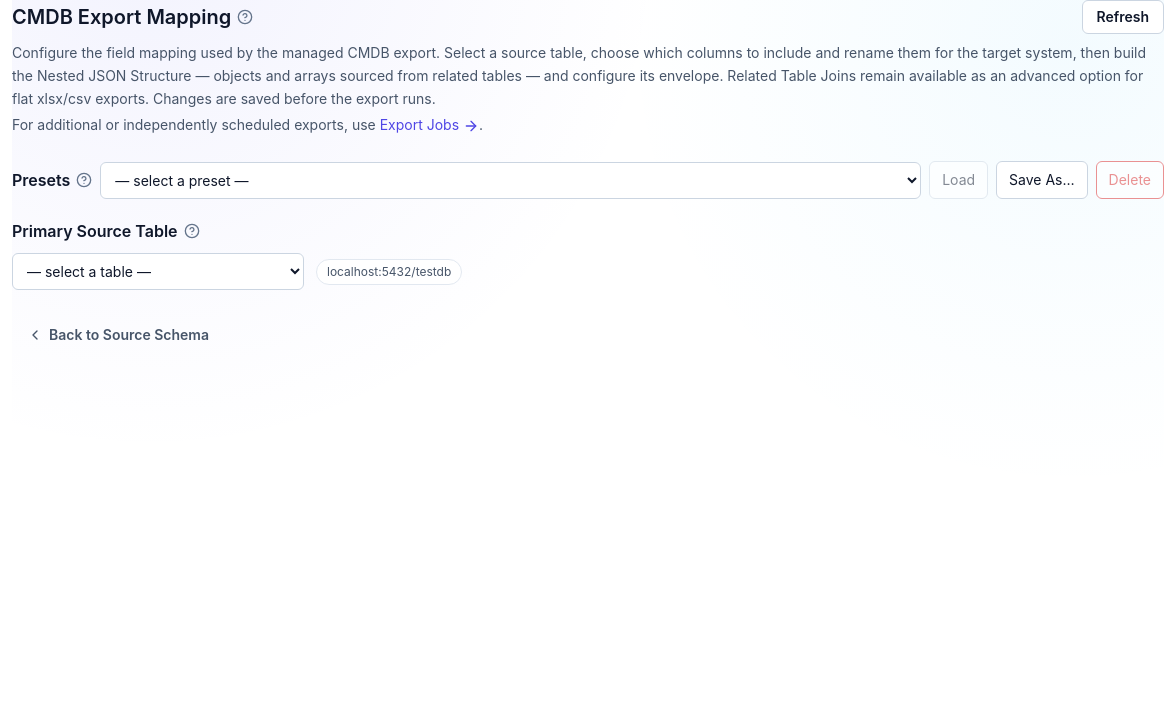
Test case: SchemaView › shows save-ok confirmation after successful save
Select "systemconfiguration (4 cols — PK: id)" in the dropdown with class "table-select" at (158, 272), box 12,253 -> 304,290
(page scrolled)
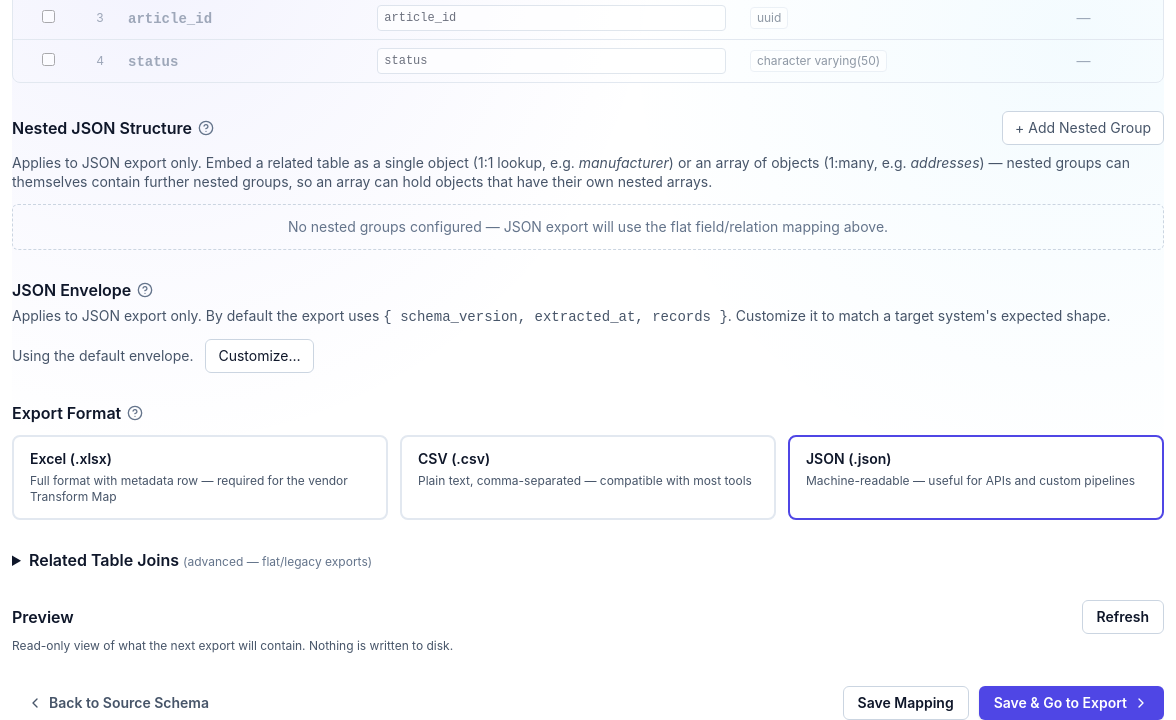
Click the button with class "btn-save" at (906, 703), box 843,686 -> 969,719
(page scrolled)
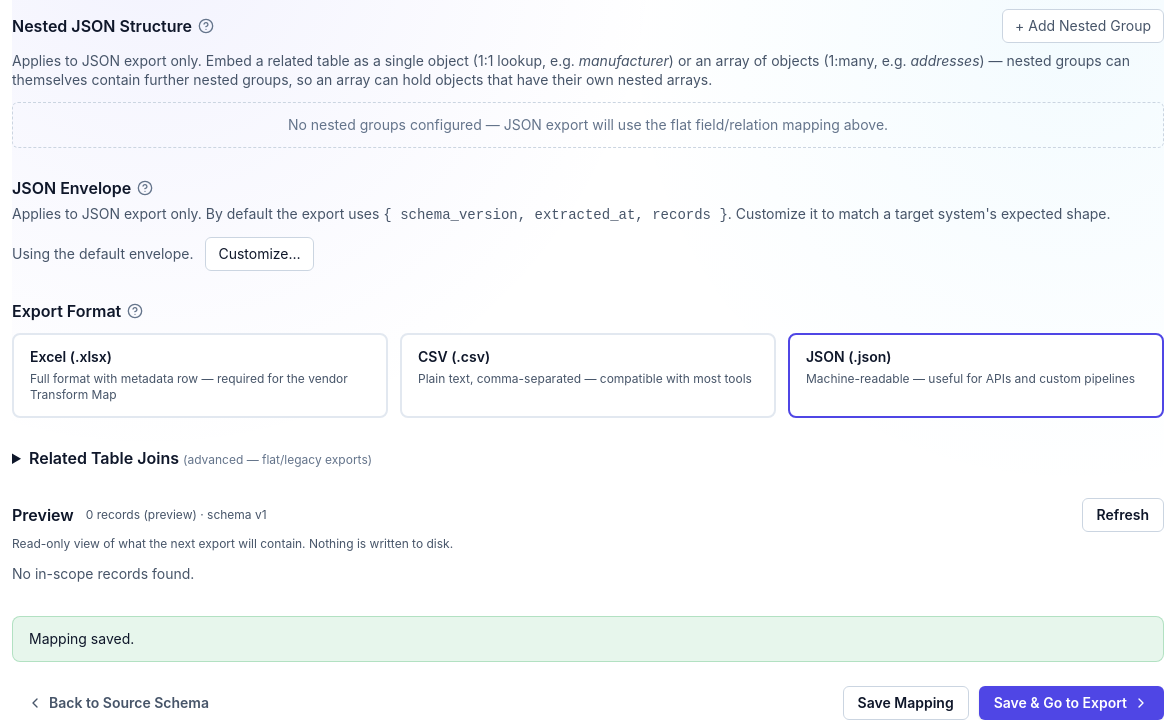
Expected: the message "Mapping saved." is shown, 12,616 -> 1164,662
